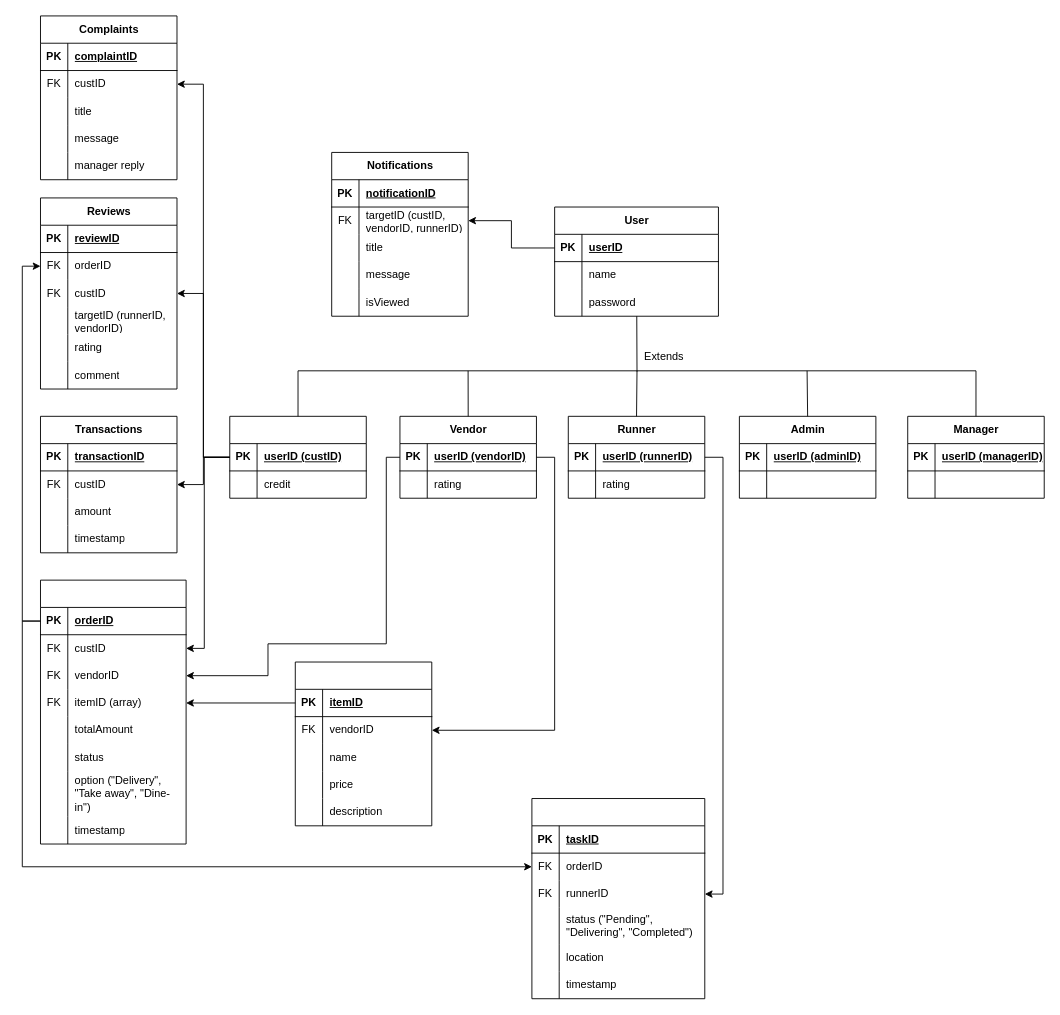
Some shapes in this 1060 by 1015 pixel diagram are drawn without their labels. The shapes that lost their labels are listed below. From the top down, each one's box as (x1, y1, x2, y2) in pixels, then its label:
(229, 415, 366, 498): Customer
(40, 579, 186, 844): Orders
(294, 661, 432, 826): Menu
(531, 798, 705, 999): Tasks
